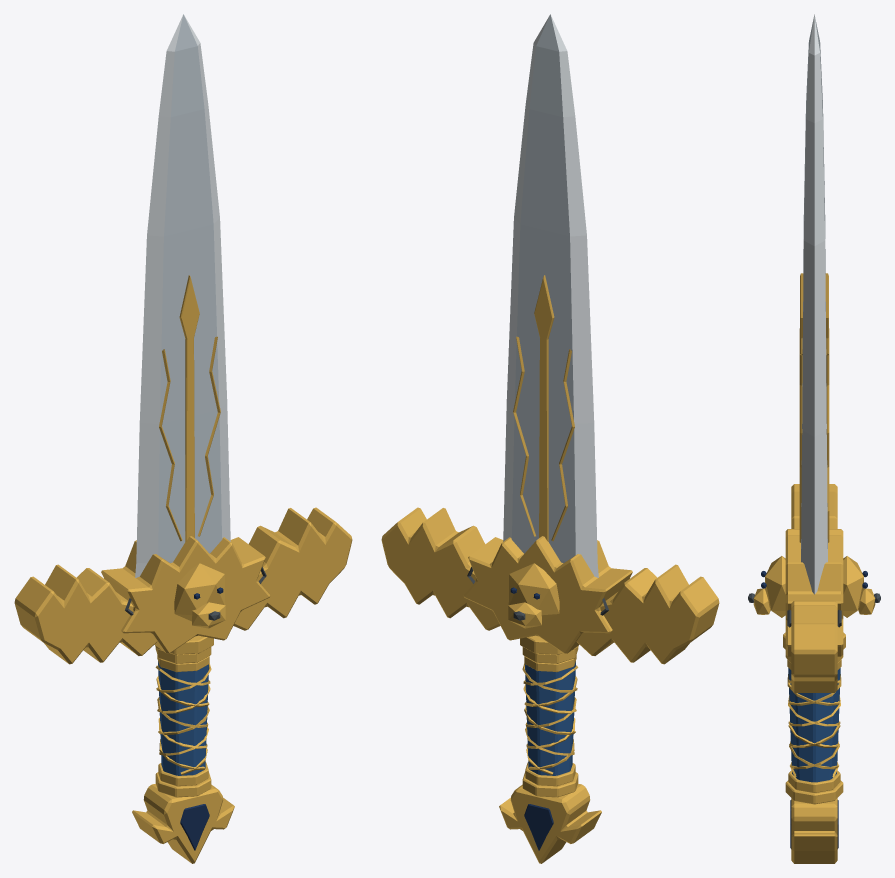
File: champion_sword_ai_2.glb
3 renders of one model, left to right at view 1: azimuth 30°, elevation 25°; view 2: azimuth 150°, elevation 25°; view 3: azimuth 270°, elevation 25°, orthographic.
Parts seen in each view (by area): view 1: ChampionSword_Mesh; view 2: ChampionSword_Mesh; view 3: ChampionSword_Mesh.
Boxes of the visible parts, x1,y1,x2,y2 form: ChampionSword_Mesh: (14,14,352,863); ChampionSword_Mesh: (381,14,719,863); ChampionSword_Mesh: (748,14,880,863).
Size of the model in its own units: 0.6574 by 1.66 by 0.236.
